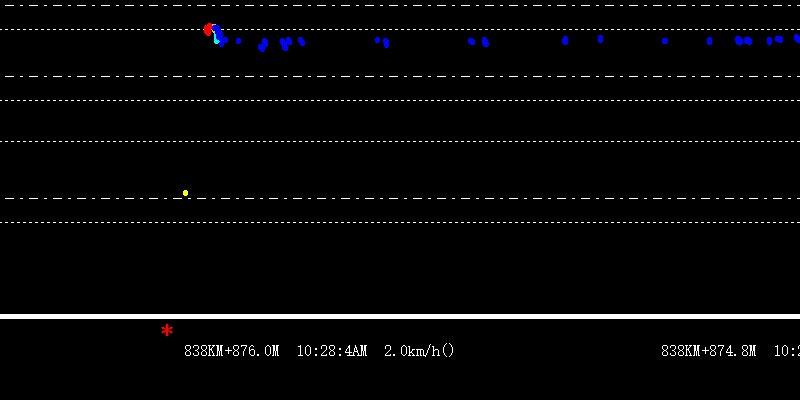face_2: (200, 24, 226, 47)
star: (158, 320, 173, 338)
